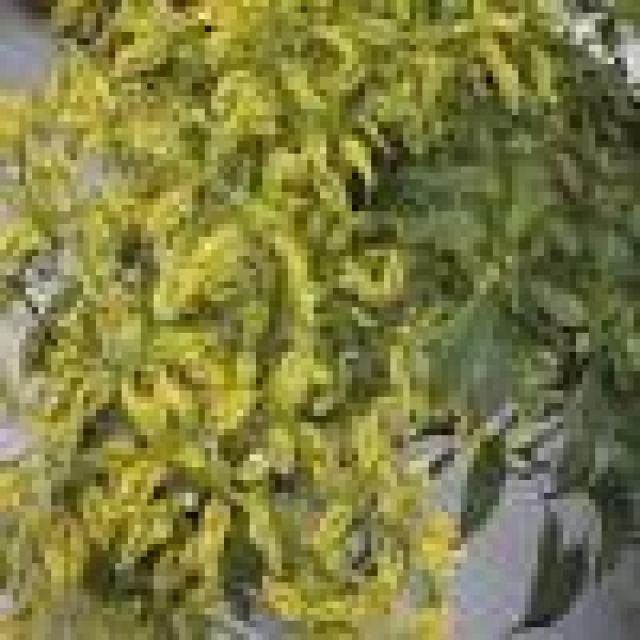virus_kuning: (6, 321, 318, 630)
